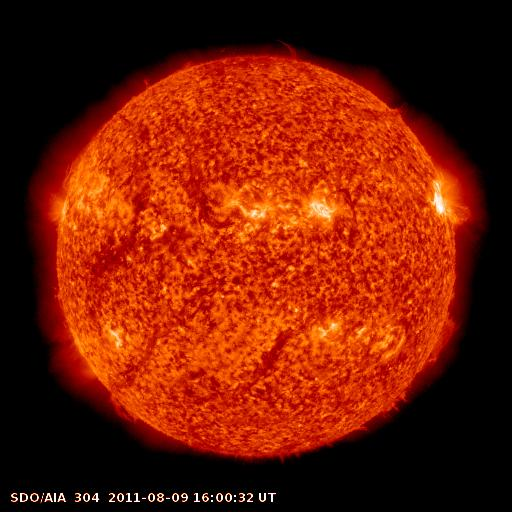prominence: (416, 301, 468, 367), (349, 389, 415, 436), (56, 140, 93, 196), (103, 386, 147, 431), (274, 33, 308, 68)
